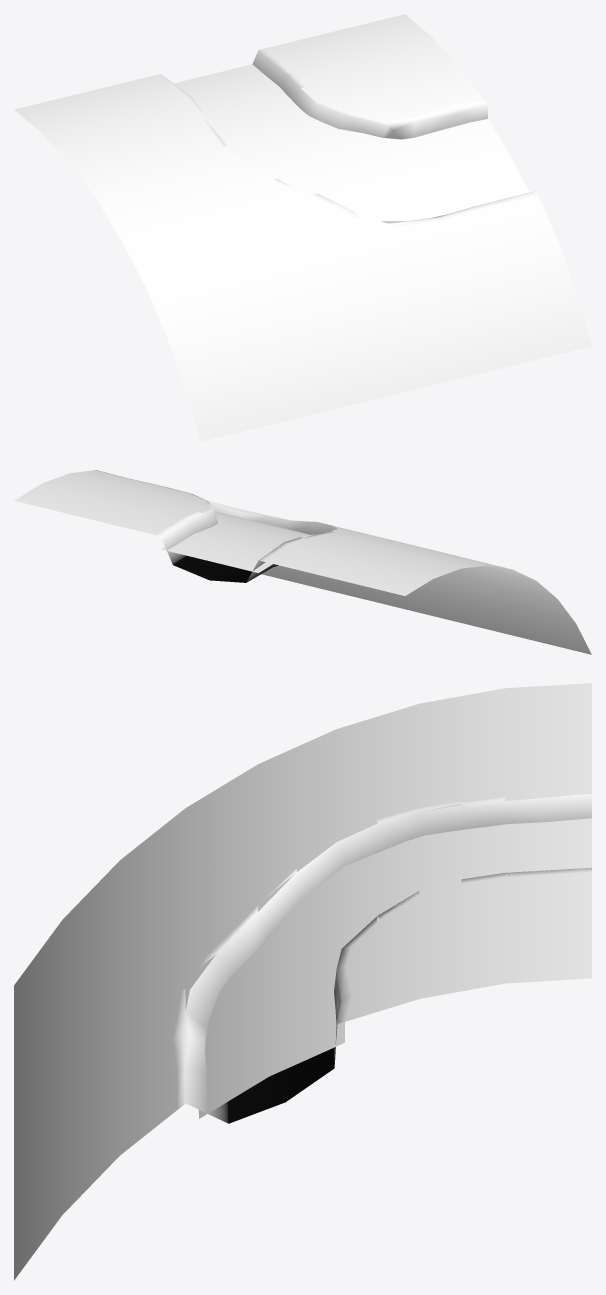
Rendered from grd_Rwn_0.dae.
3 views of the same model, one above another, from view 1: azimuth 30°, elevation 25°; view 2: azimuth 150°, elevation 25°; view 3: azimuth 270°, elevation 25° (orthographic). The views are drawn at different scales.
Parts seen in each view (by area): view 1: grd_Rwn_0; view 2: grd_Rwn_0; view 3: grd_Rwn_0.
Part boxes in pixels (left/top/right/bottom): grd_Rwn_0: left=14, top=14, right=591, bottom=441; grd_Rwn_0: left=14, top=470, right=591, bottom=654; grd_Rwn_0: left=14, top=683, right=591, bottom=1280.
Bounding box in the file's own units: 512 × 244 × 423.
Materials: 4 (1 with a texture image).
